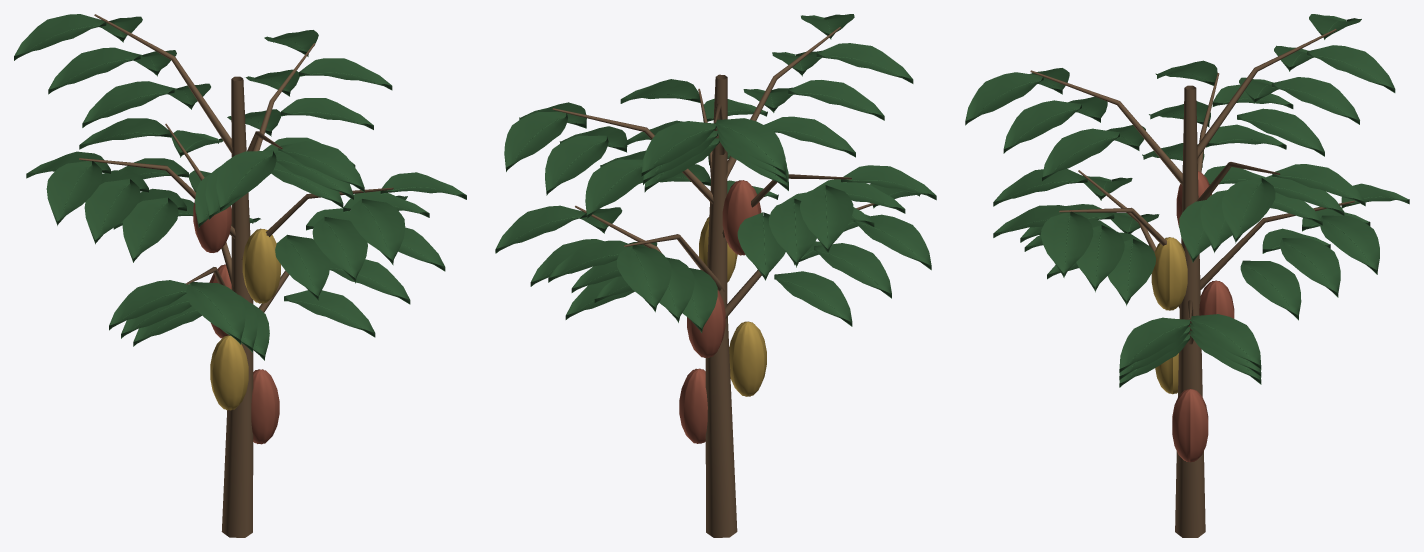
The model's file is cacao.glb.
3 renders of one model, left to right at view 1: azimuth 30°, elevation 25°; view 2: azimuth 150°, elevation 25°; view 3: azimuth 270°, elevation 25°, orthographic. The views are drawn at different scales.
Visible parts, largest first — view 1: cacao; view 2: cacao; view 3: cacao.
Boxes of the visible parts, bbox=[...] form: cacao: bbox=[14, 14, 466, 537]; cacao: bbox=[495, 14, 936, 537]; cacao: bbox=[965, 14, 1409, 537].
Size of the model in its own units: 1.86 by 2.2 by 1.89.
